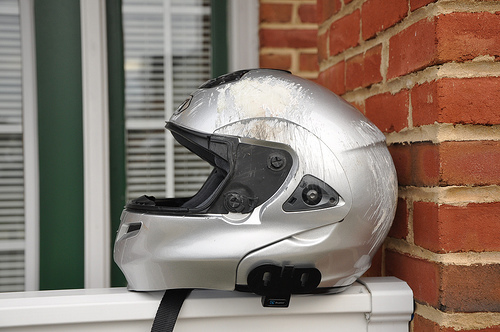helmet: (149, 54, 395, 287)
